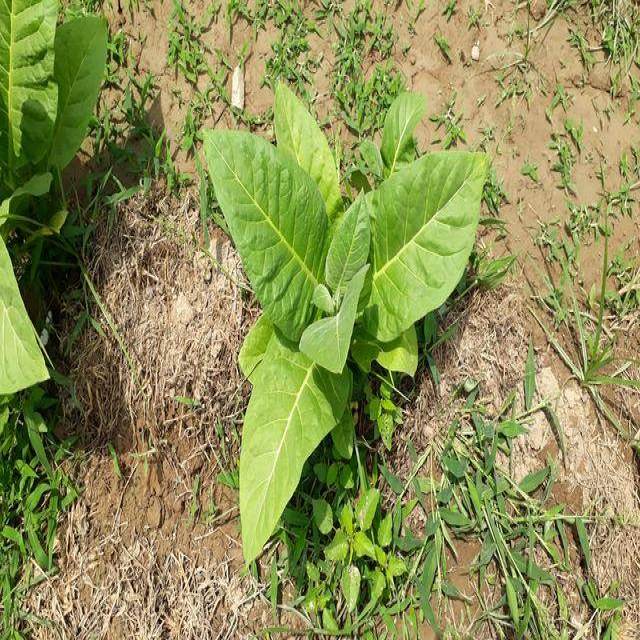crop: (208, 79, 486, 549), (0, 7, 107, 400)
